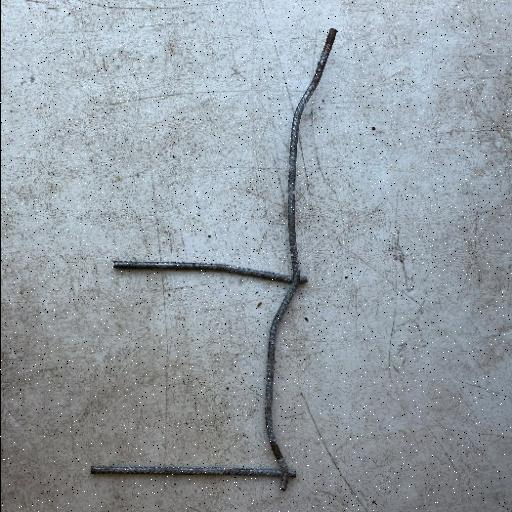Metal: (87, 24, 340, 492)
